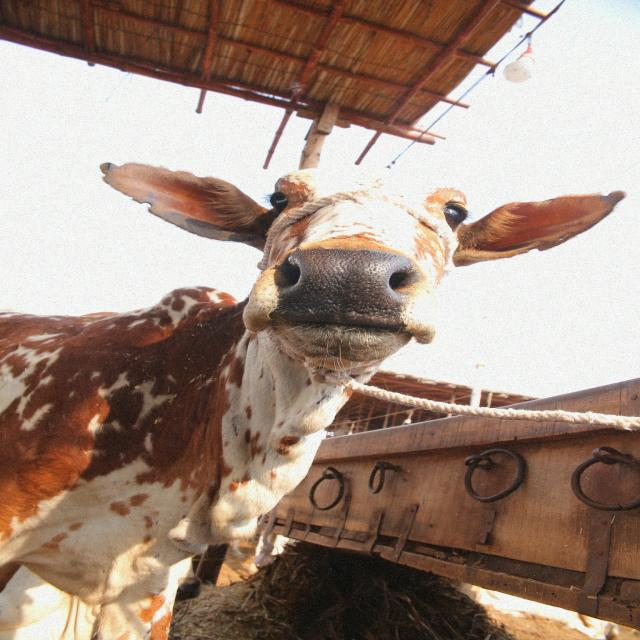muzzles: (265, 239, 429, 339)
